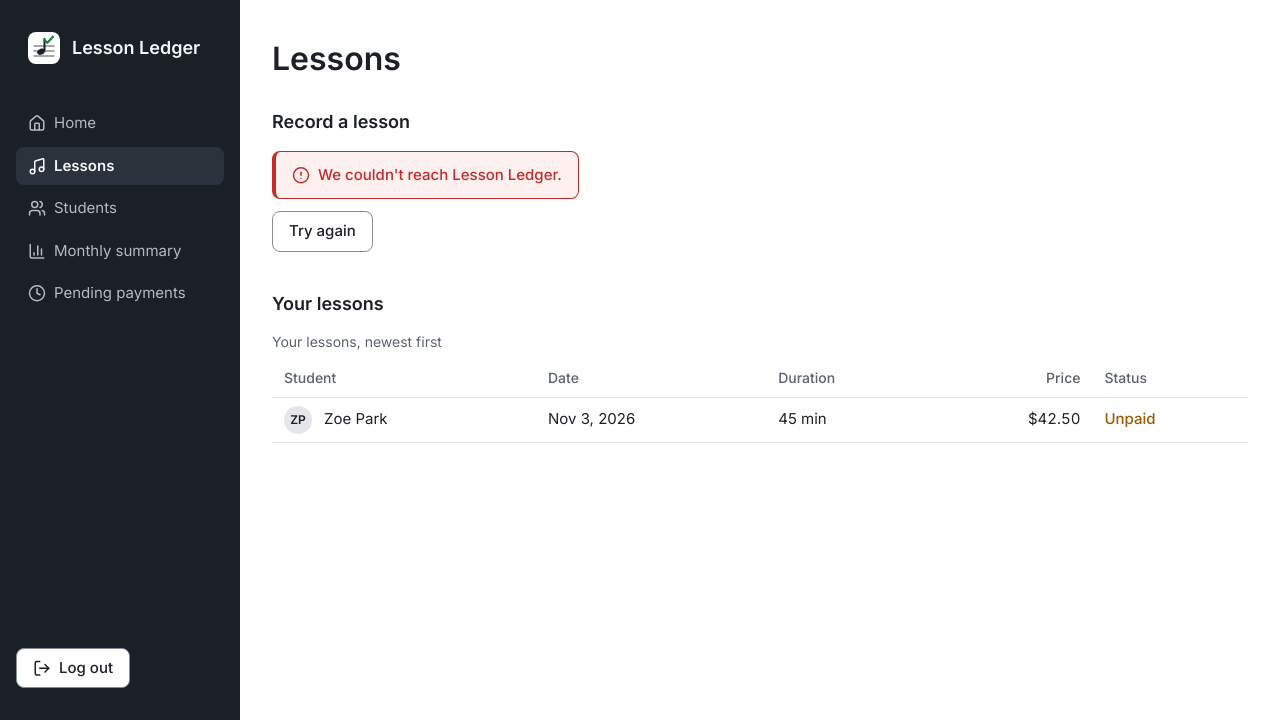
Test: AC-2 lessons page › offers Try again when GET /api/students?page=1&page_size=500 fails
Expected: the heading "Lessons" is shown, x1=272 y1=39 x2=401 y2=78
Expected: the text "We couldn't reach Lesson Ledger." is shown, x1=272 y1=151 x2=579 y2=199
Click the button "Try again": (322, 231) x1=272 y1=211 x2=373 y2=252
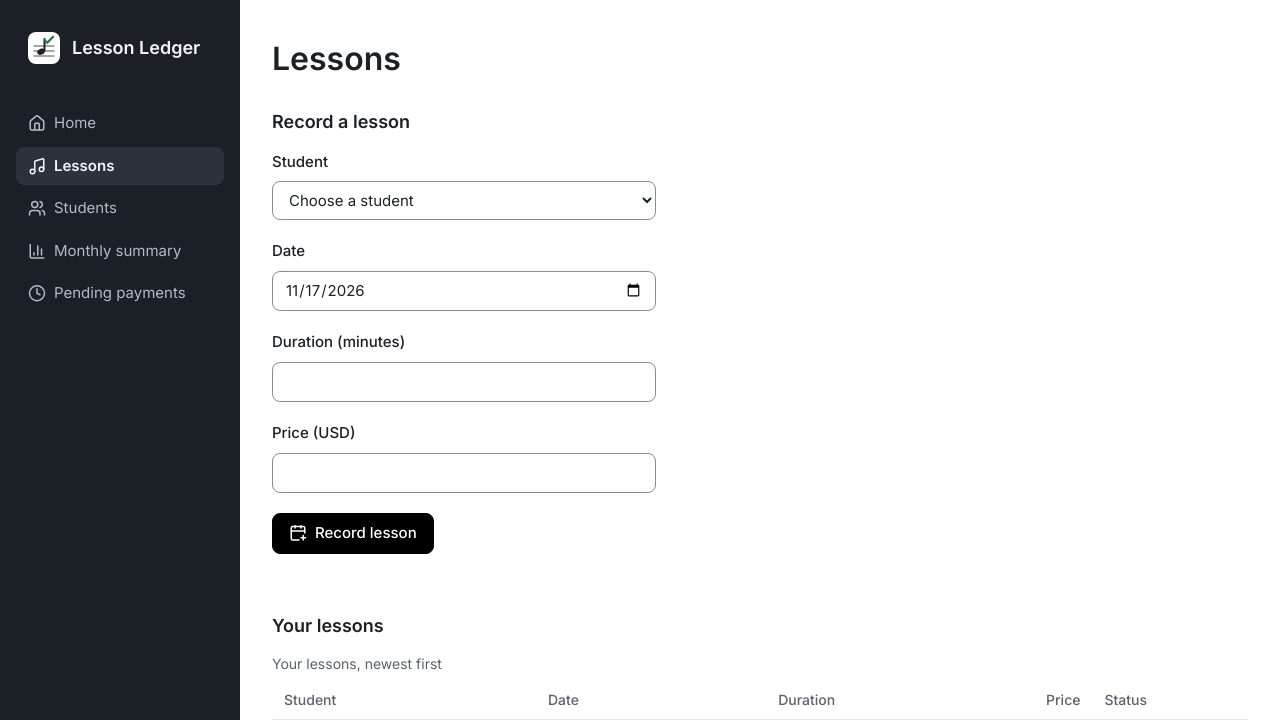
Expected: the text "We couldn't reach Lesson Ledger." is gone
Expected: the dropdown labelled "Student" is shown, x1=272 y1=181 x2=656 y2=220
